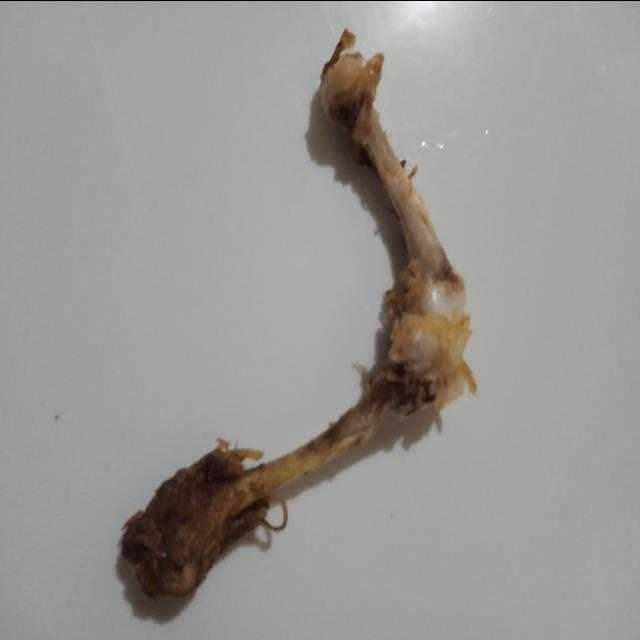bone: (100, 0, 494, 640)
